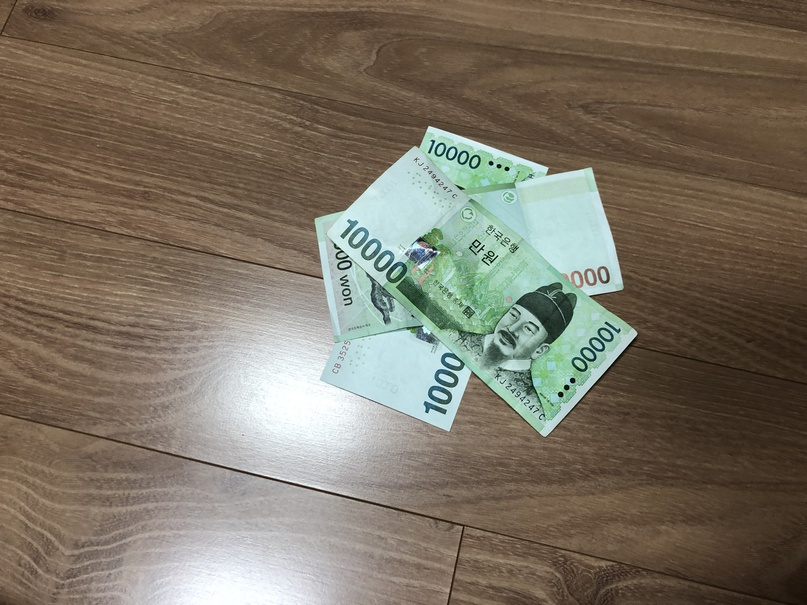10000won: (326, 146, 638, 438)
